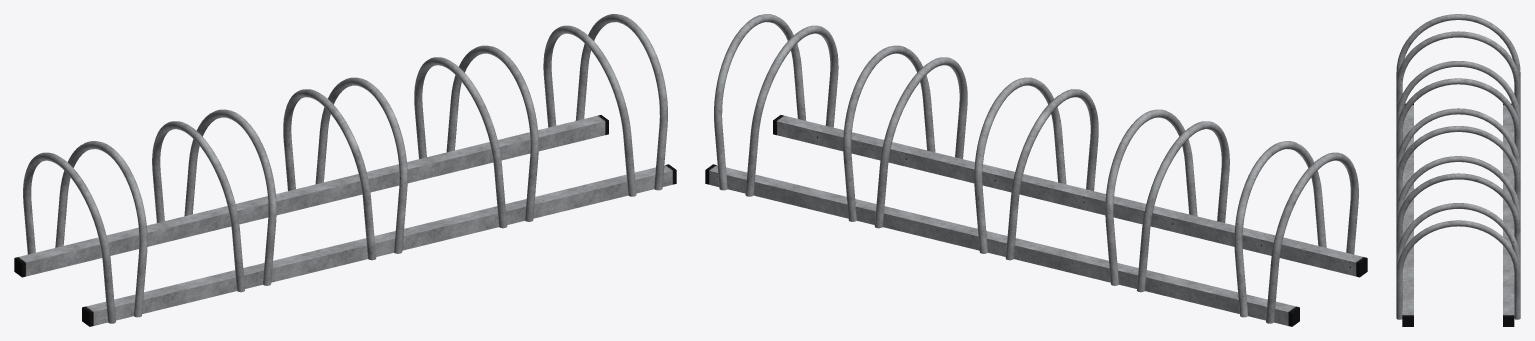
File: BicycleStand4.obj
3 renders of one model, left to right at view 1: azimuth 30°, elevation 25°; view 2: azimuth 150°, elevation 25°; view 3: azimuth 270°, elevation 25°, orthographic. The views are drawn at different scales.
Visible parts, largest first — view 1: BicacleStand4; view 2: BicacleStand4; view 3: BicacleStand4.
Boxes of the visible parts, x1=… form: BicacleStand4: x1=14, y1=14, x2=676, y2=326; BicacleStand4: x1=705, y1=14, x2=1367, y2=326; BicacleStand4: x1=1396, y1=14, x2=1520, y2=326.
Bounding box in the file's own units: 51.97 × 11.73 × 12.8.
